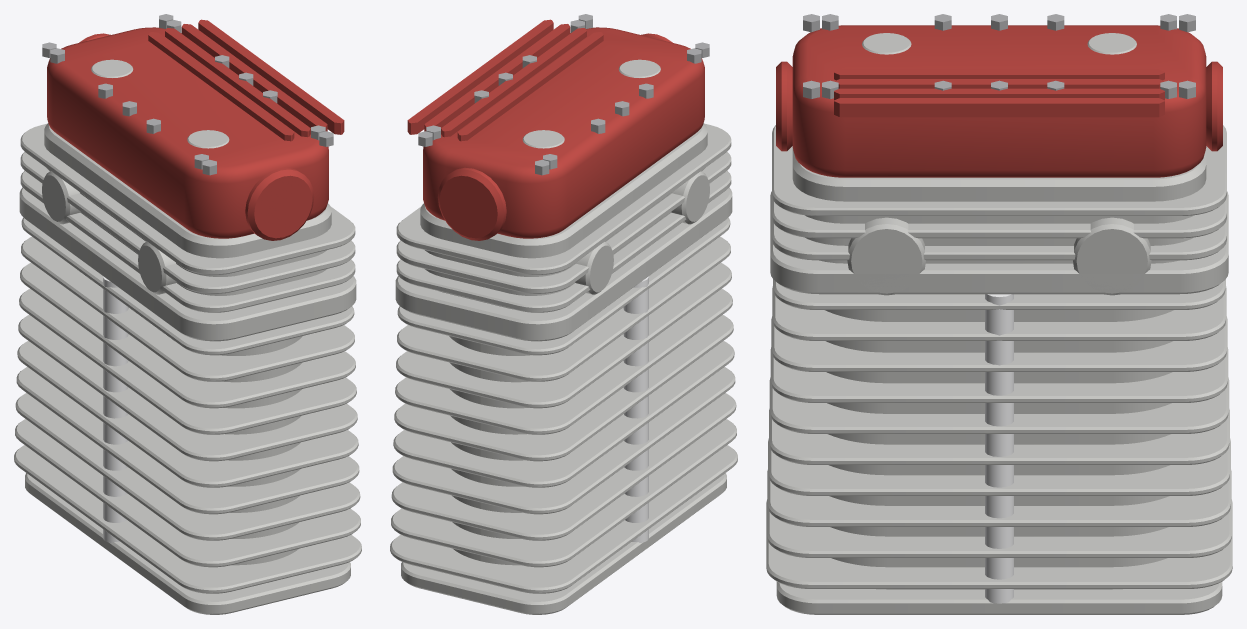
The model's file is hot_cam.glb.
The picture shows the model from 3 angles, left to right: view 1: azimuth 30°, elevation 25°; view 2: azimuth 150°, elevation 25°; view 3: azimuth 270°, elevation 25°; orthographic projection. The views are drawn at different scales.
Visible parts, largest first — view 1: hot_cam; view 2: hot_cam; view 3: hot_cam.
Boxes of the visible parts, <box> form: hot_cam: <box>14,14,361,614</box>; hot_cam: <box>390,14,737,614</box>; hot_cam: <box>766,14,1232,614</box>.
Size of the model in its own units: 0.128 by 0.3043 by 0.248.
